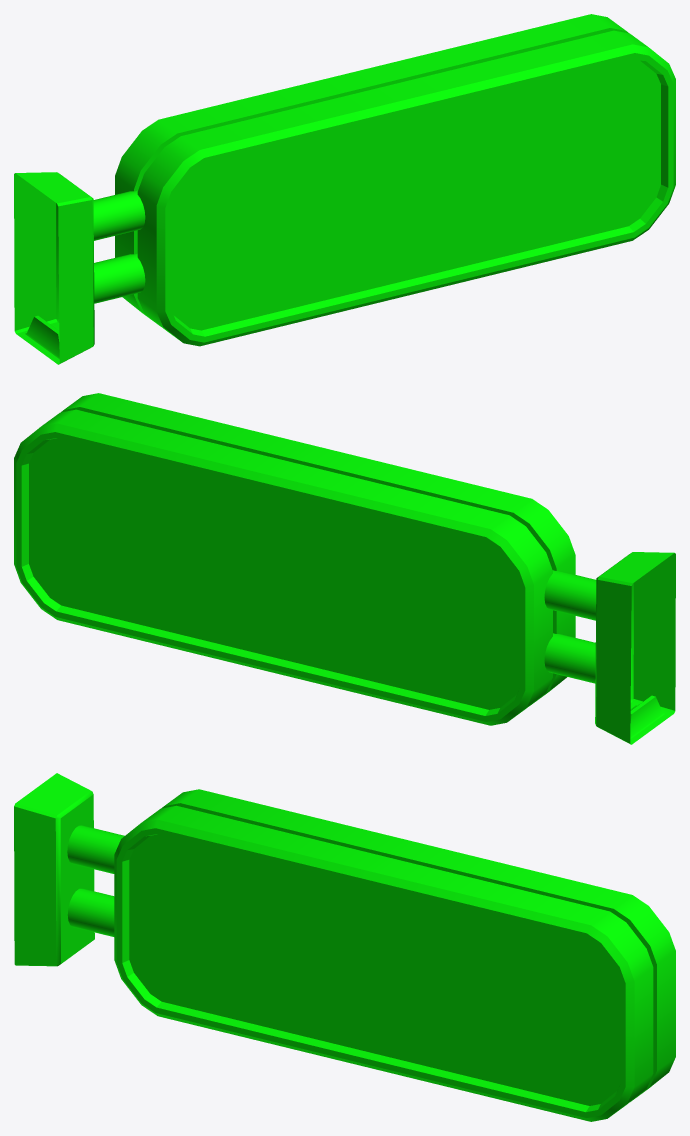
Rendered from bg_sign.FBX.
3 renders of one model, top to bottom at view 1: azimuth 30°, elevation 25°; view 2: azimuth 150°, elevation 25°; view 3: azimuth 330°, elevation 25°, orthographic.
Parts seen in each view (by area): view 1: bg_sign; view 2: bg_sign; view 3: bg_sign.
Boxes of the visible parts, x1=… form: bg_sign: x1=14, y1=14, x2=675, y2=364; bg_sign: x1=14, y1=393, x2=675, y2=744; bg_sign: x1=14, y1=773, x2=675, y2=1121.
Bounding box in the file's own units: 454 × 138 × 60.94.
